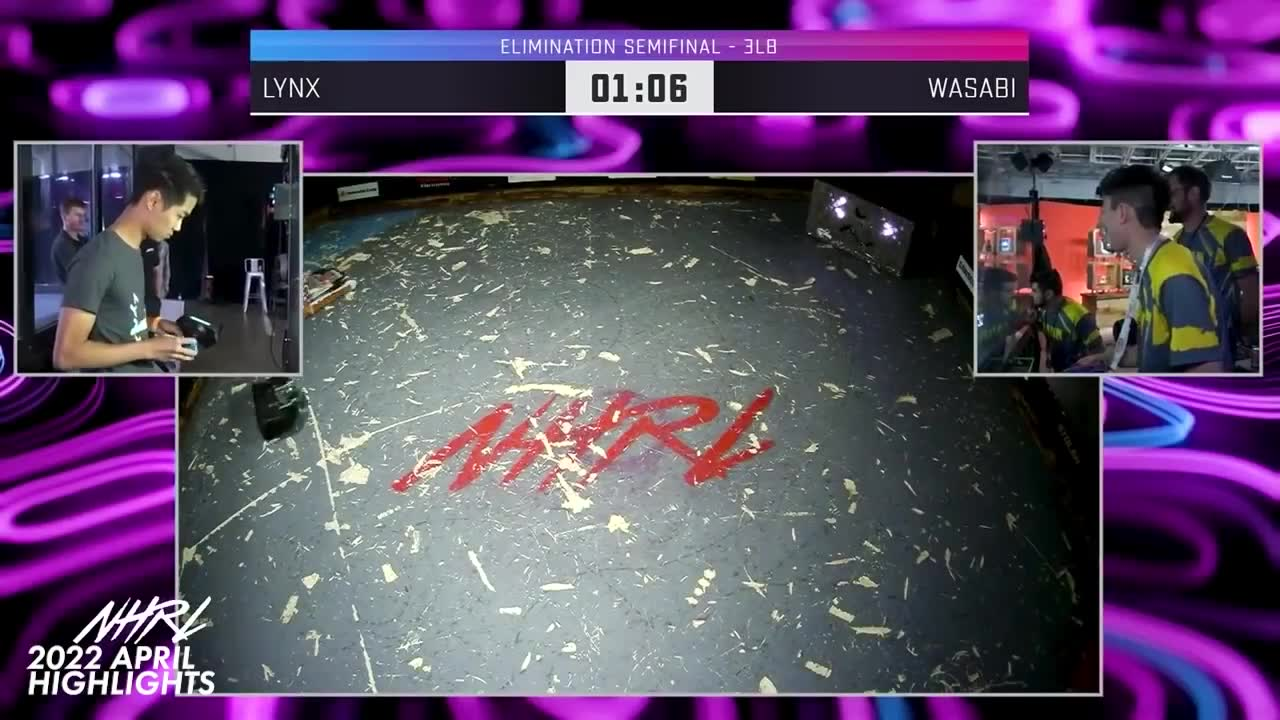combatbot: (251, 376, 307, 441), (304, 265, 357, 319)
housebot: (805, 176, 961, 280)
